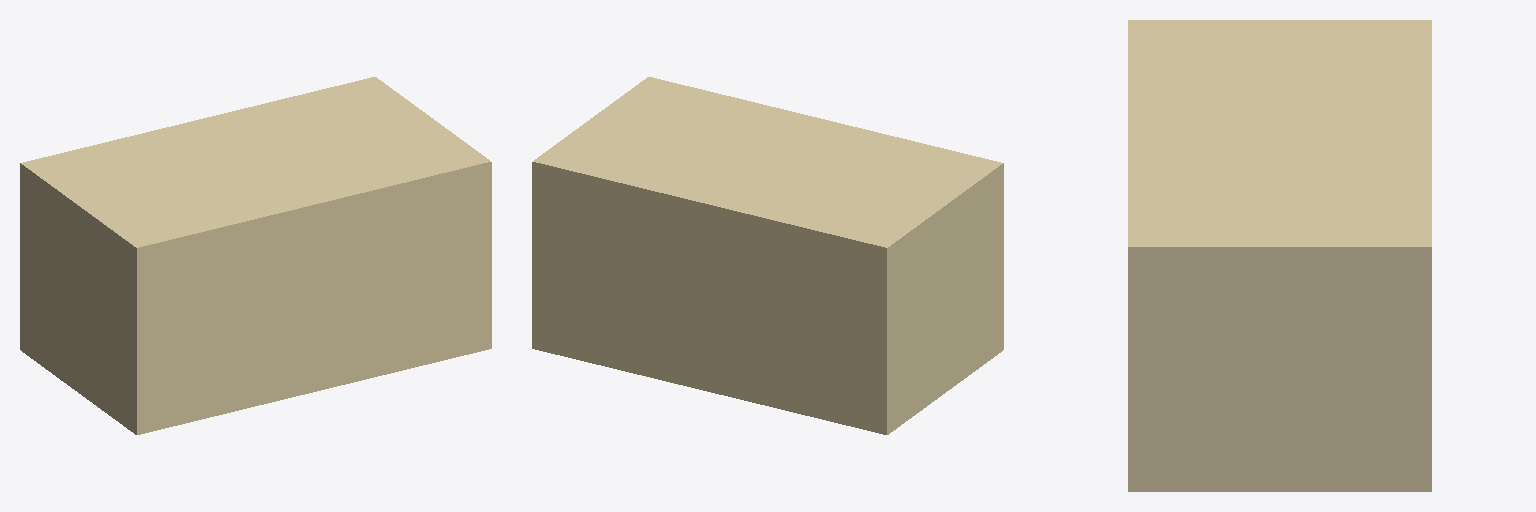
The robot description file, URDF, robot "box.urdf":
<?xml version="1.0" ?>
<robot name="box.urdf">
  <link name="baseLink">
    <contact>
      <lateral_friction value="1.0"/>
      <rolling_friction value="0.0001"/>
      <inertia_scaling value="3.0"/>
    </contact>
    <inertial>
      <origin rpy="0 0 0" xyz="0 0 0"/>
       <mass value="0.1"/>
       <inertia ixx="1" ixy="0" ixz="0" iyy="1" iyz="0" izz="1"/>
    </inertial>
    <visual>
      <origin rpy="0 0 0" xyz="0 0 0"/>
      <geometry>
        <!-- <box size="0.337 0.191 0.17"/> -->
        <mesh filename="box/box.obj" scale="0.337 0.191 0.17"/>
      </geometry>
      <material name="white">
        <color rgba="0.9 0.85 0.7 1"/>
      </material>
    </visual>
    <collision>
      <origin rpy="0 0 0" xyz="0 0 0"/>
      <geometry>
        <mesh filename="box/box.obj" scale="0.337 0.191 0.17"/>
	 	    <!-- <box size="0.337 0.191 0.17"/> -->
      </geometry>
    </collision>
  </link>
</robot>

--- What the picture shows (computed from the rendered views, not written in the file) ---
3 views of the same robot in one strip: view 1: azimuth 30°, elevation 25°; view 2: azimuth 150°, elevation 25°; view 3: azimuth 270°, elevation 25° (orthographic).
Robot: box.urdf — 1 links, 0 joints (none); root link baseLink; default pose: all joints at 0.
Visible links, largest first — view 1: baseLink; view 2: baseLink; view 3: baseLink.
Link boxes in pixels (bbox=[...]): baseLink: bbox=[20, 77, 491, 434]; baseLink: bbox=[532, 77, 1003, 434]; baseLink: bbox=[1128, 20, 1431, 491].
Size in the robot's own frame: 0.337 by 0.191 by 0.17 metres.
1 mesh visuals loaded from 1 distinct referenced files (1 OBJ).
